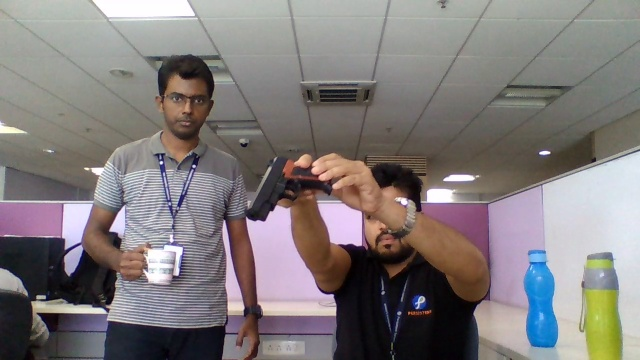gun: (246, 157, 287, 222)
